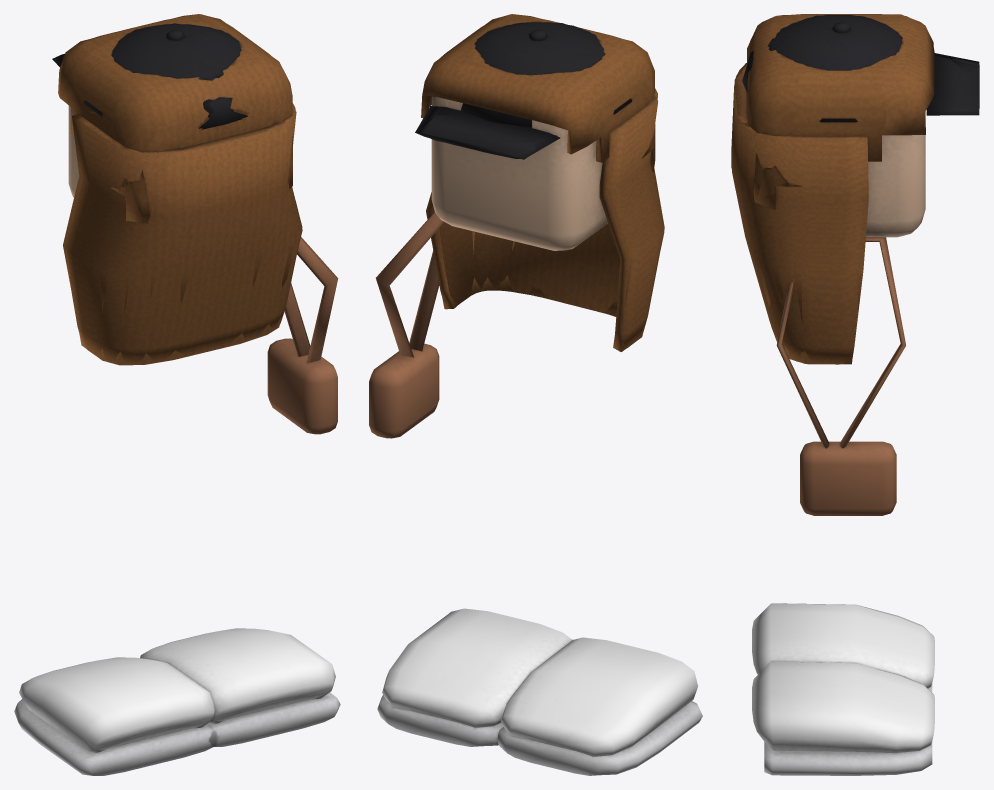
File: Bloque_Oficio_Vero.fbx
3 renders of one model, left to right at view 1: azimuth 30°, elevation 25°; view 2: azimuth 150°, elevation 25°; view 3: azimuth 270°, elevation 25°, orthographic.
Parts seen in each view (by area): view 1: Pelo, ZapatillaL, PeloLOD, ZapatillaR, Bolso, Gorra, GorraLOD, CabezaBloque; view 2: Pelo, ZapatillaL, PeloLOD, ZapatillaR, CabezaBloque, Bolso, Gorra, GorraLOD; view 3: Pelo, ZapatillaR, PeloLOD, ZapatillaL, Bolso, Gorra, CabezaBloque, GorraLOD.
Part boxes in pixels (bbox=[...]): Pelo: bbox=[58, 14, 302, 365]; ZapatillaL: bbox=[14, 657, 217, 775]; PeloLOD: bbox=[59, 14, 302, 365]; ZapatillaR: bbox=[140, 628, 340, 746]; Bolso: bbox=[267, 237, 338, 434]; Gorra: bbox=[52, 24, 247, 128]; GorraLOD: bbox=[52, 23, 241, 129]; CabezaBloque: bbox=[68, 105, 79, 197]; Pelo: bbox=[421, 15, 664, 351]; ZapatillaL: bbox=[497, 637, 702, 775]; PeloLOD: bbox=[423, 14, 664, 351]; ZapatillaR: bbox=[377, 608, 572, 746]; CabezaBloque: bbox=[431, 96, 607, 250]; Bolso: bbox=[369, 212, 443, 438]; Gorra: bbox=[415, 22, 632, 159]; GorraLOD: bbox=[415, 22, 605, 159]; Pelo: bbox=[731, 14, 934, 364]; ZapatillaR: bbox=[752, 661, 934, 775]; PeloLOD: bbox=[732, 14, 934, 364]; ZapatillaL: bbox=[752, 603, 934, 692]; Bolso: bbox=[776, 237, 905, 515]; Gorra: bbox=[742, 15, 979, 122]; CabezaBloque: bbox=[866, 111, 925, 237]; GorraLOD: bbox=[743, 15, 979, 115].
Bounding box in the file's own units: 235 × 555 × 180.
